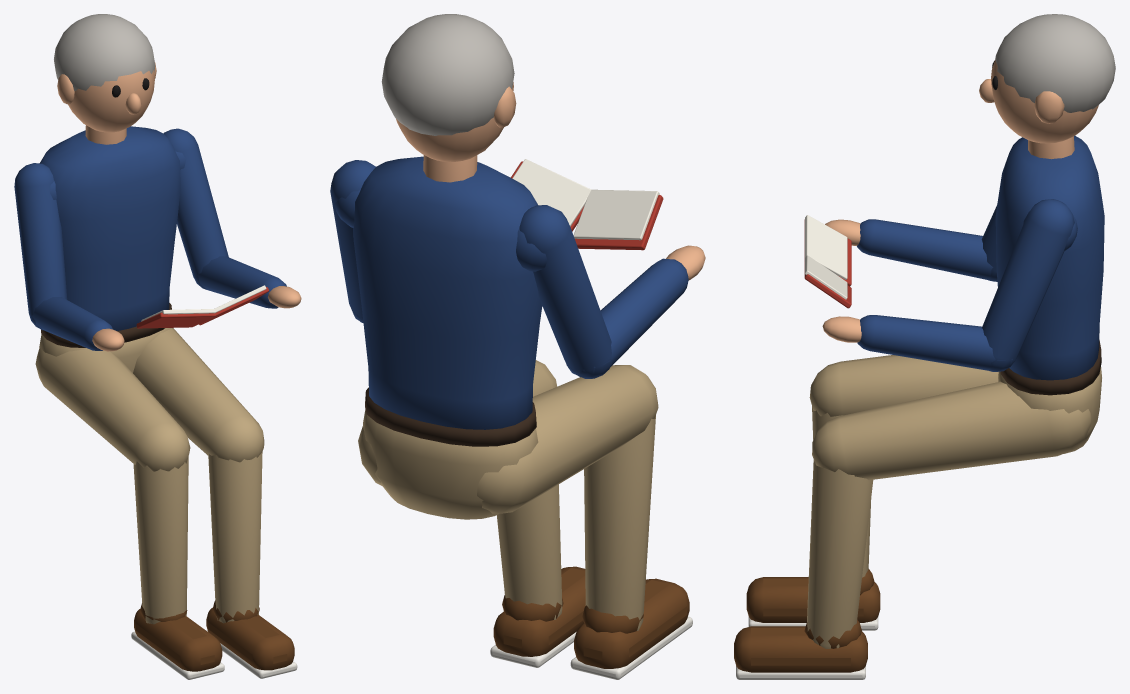
Rendered from sitter_reader.fbx.
The picture shows the model from 3 angles, left to right: view 1: azimuth 30°, elevation 25°; view 2: azimuth 150°, elevation 25°; view 3: azimuth 270°, elevation 25°; orthographic projection. The views are drawn at different scales.
Visible parts, largest first — view 1: sitter_reader; view 2: sitter_reader; view 3: sitter_reader.
Part boxes in pixels (<box>): sitter_reader: <box>14,14,301,679</box>; sitter_reader: <box>330,14,705,679</box>; sitter_reader: <box>734,14,1115,679</box>.
Size of the model in its own units: 0.5311 by 1.41 by 0.7704.
